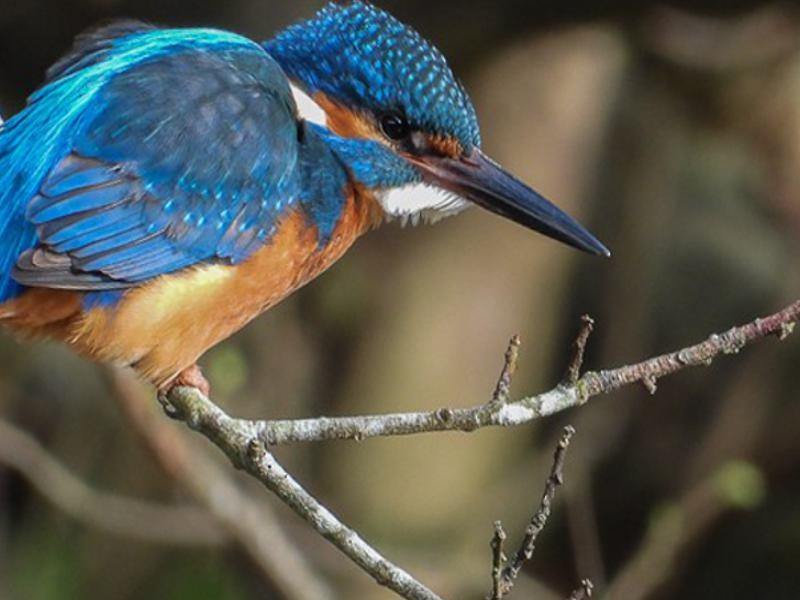kingfisher: (1, 23, 627, 373)
